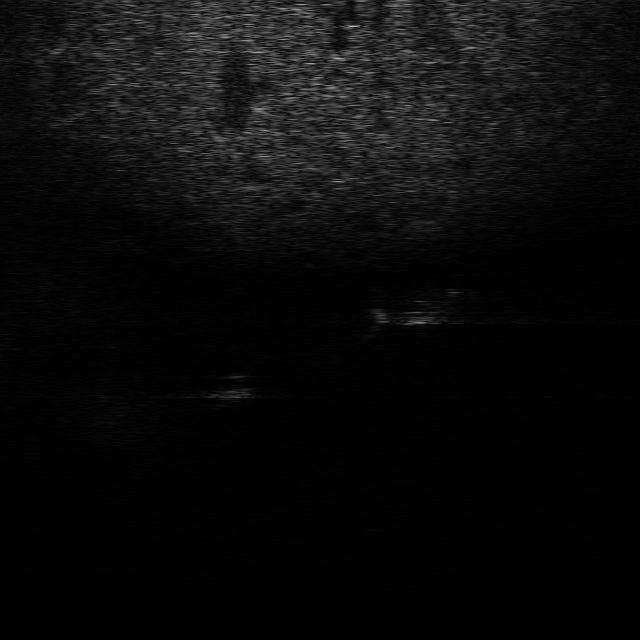ball: (204, 371, 261, 402)
human body: (358, 285, 472, 336)
